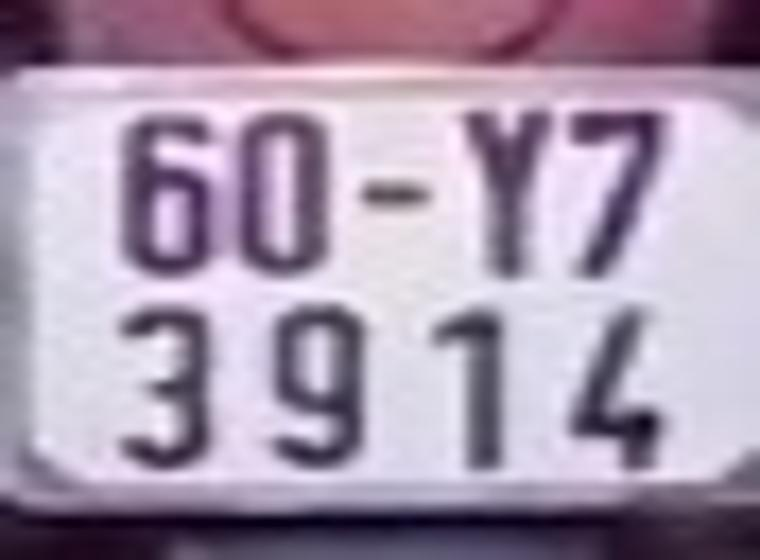-: (361, 187, 427, 203)
0: (239, 112, 325, 272)
1: (437, 307, 504, 472)
3: (127, 307, 209, 470)
4: (573, 305, 658, 472)
6: (122, 114, 213, 276)
7: (567, 111, 655, 282)
9: (273, 303, 361, 465)
Y: (461, 113, 545, 275)
